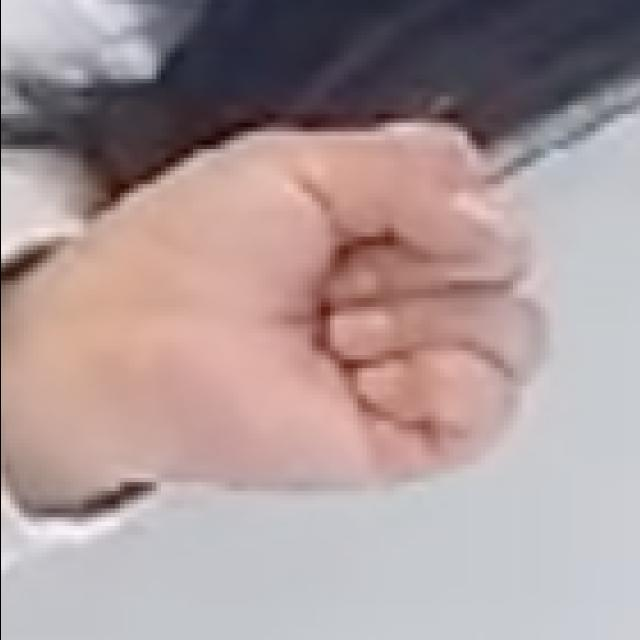S: (49, 110, 564, 514)
